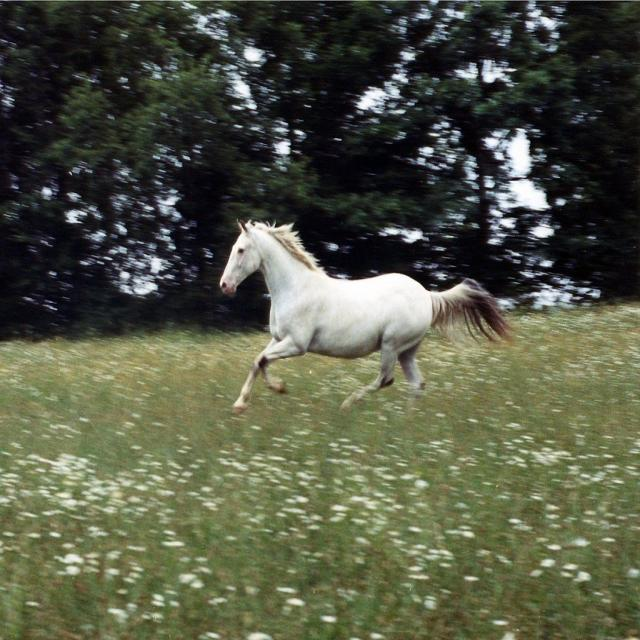Horse: (217, 215, 526, 418)
